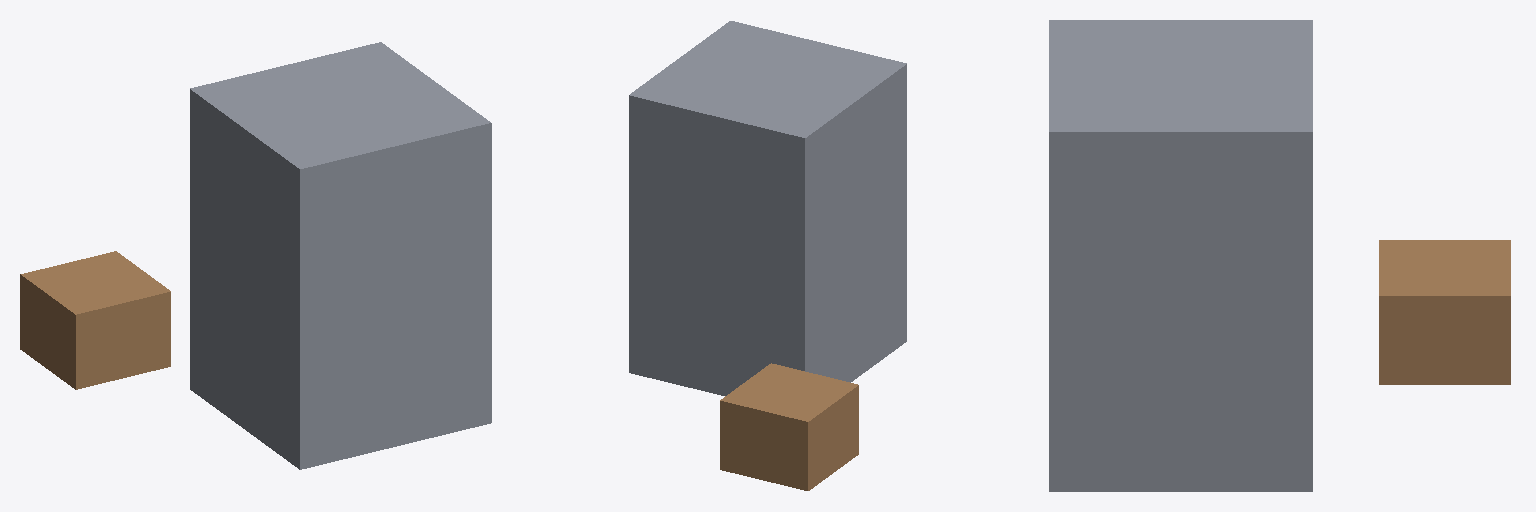
URDF robot description (drone_building):
<?xml version="1.0"?>
<!--
  A tall building on open ground, for flying a drone beside it and over its roof
  (docs/design/domains/rotor_aero.md §2.6: the downwash meets buildings). An 8 m x 8 m
  block 12 m high whose west face is at x = 0.6, so the sample quadcopter, which starts
  at the origin, hovers with its rotor tips 0.3 m from the wall; and a 4 m x 4 m
  pavilion 3 m high to the north, at y = 6 to 10, to land on. Boxes only.
-->
<robot name="drone_building">
  <material name="facade">
    <color rgba="0.62 0.64 0.68 1"/>
  </material>
  <material name="pavilion">
    <color rgba="0.70 0.55 0.40 1"/>
  </material>
  <link name="world"/>
  <link name="tower">
    <visual>
      <geometry><box size="8 8 12"/></geometry>
      <material name="facade"/>
    </visual>
    <collision>
      <geometry><box size="8 8 12"/></geometry>
    </collision>
  </link>
  <joint name="tower_fixed" type="fixed">
    <parent link="world"/>
    <child link="tower"/>
    <origin xyz="4.6 0 6"/>
  </joint>
  <link name="pavilion">
    <visual>
      <geometry><box size="4 4 3"/></geometry>
      <material name="pavilion"/>
    </visual>
    <collision>
      <geometry><box size="4 4 3"/></geometry>
    </collision>
  </link>
  <joint name="pavilion_fixed" type="fixed">
    <parent link="world"/>
    <child link="pavilion"/>
    <origin xyz="-1 8 1.5"/>
  </joint>
</robot>

--- Facts derived from the render (not from the file) ---
Views: 3 orthographic renders of the robot side by side, from view 1: azimuth 30°, elevation 25°; view 2: azimuth 150°, elevation 25°; view 3: azimuth 270°, elevation 25°.
Model drone_building with 3 links and 2 joints (2 fixed), rooted at world, posed all joints at 0.
Links seen in each view (by area): view 1: tower, pavilion; view 2: tower, pavilion; view 3: tower, pavilion.
Boxes of the visible links, x1=… form: tower: x1=190, y1=42, x2=491, y2=469; pavilion: x1=20, y1=251, x2=170, y2=389; tower: x1=629, y1=21, x2=906, y2=395; pavilion: x1=720, y1=363, x2=858, y2=490; tower: x1=1049, y1=20, x2=1312, y2=491; pavilion: x1=1379, y1=240, x2=1510, y2=384.
Size in the robot's own frame: 11.6 by 14 by 12 metres.
Geometry: primitives only (box / cylinder / sphere), no mesh files.
